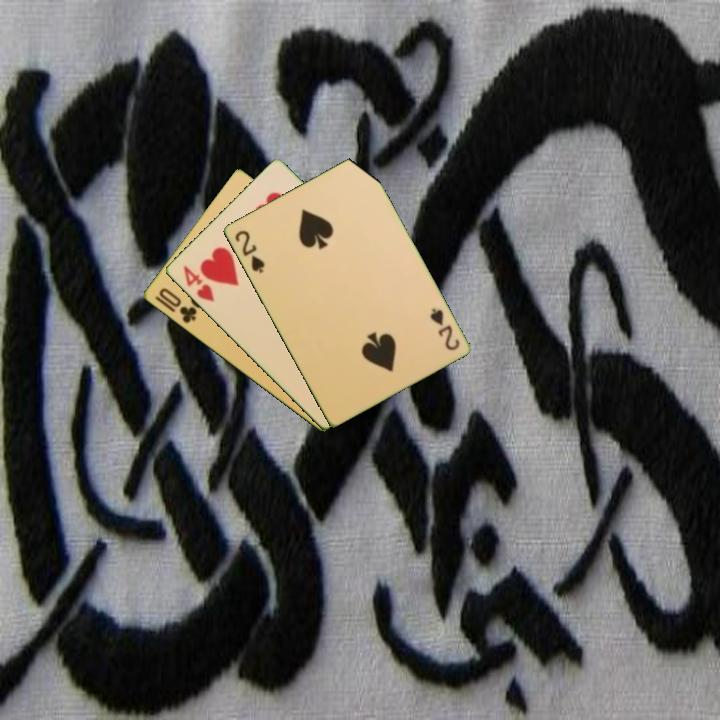10c: (155, 284, 200, 327)
2s: (231, 227, 267, 276), (426, 304, 462, 353)
4h: (179, 262, 217, 305)
